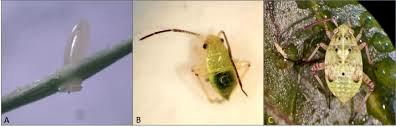Helopeltis-insect: (321, 24, 365, 103), (200, 33, 240, 102)
